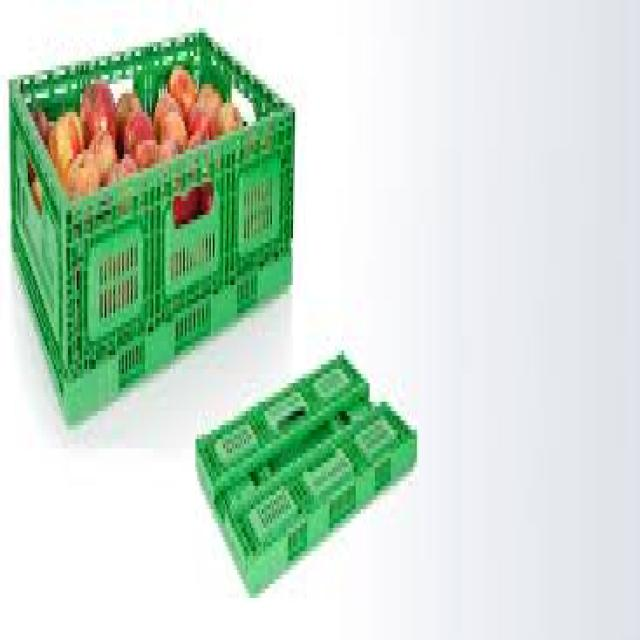basket: (0, 14, 341, 425), (160, 337, 431, 595)
